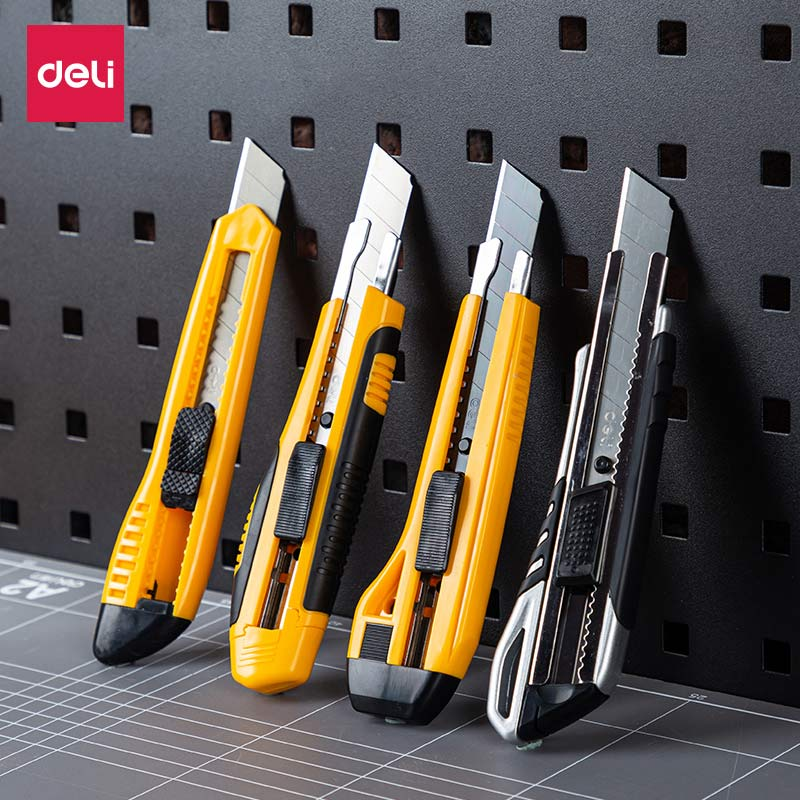cutter: (344, 157, 546, 726), (487, 162, 677, 746), (227, 140, 420, 695), (91, 134, 286, 668)
